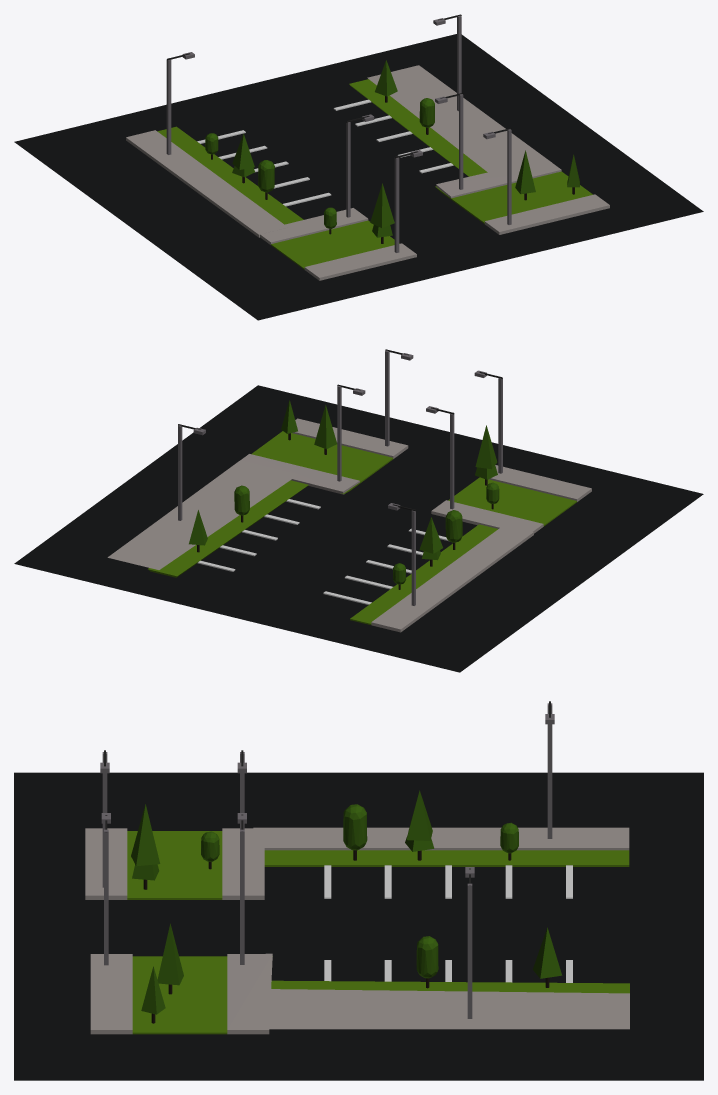
The model's file is parking_lot.obj.
3 renders of one model, top to bottom at view 1: azimuth 30°, elevation 25°; view 2: azimuth 150°, elevation 25°; view 3: azimuth 270°, elevation 25°, orthographic. The views are drawn at different scales.
Visible parts, largest first — view 1: Plane_Plane.008, Cube.905_Cube.3610, Cube.030_Cube.042, Cube.000_Cube.007, Cube.024_Cube.041, Cone.005_Cone.031, Cube.003_Cube.010, Cube.041_Cube.045, Cone.003_Cone.029, Icosphere.164_Icosphere.194; view 2: Plane_Plane.008, Cube.905_Cube.3610, Cube.030_Cube.042, Cube.000_Cube.007, Cube.024_Cube.041, Cone.003_Cone.029, Cone.005_Cone.031, Icosphere.164_Icosphere.194; view 3: Plane_Plane.008, Cube.905_Cube.3610, Cube.030_Cube.042, Cube.000_Cube.007, Cone.005_Cone.031, Icosphere.164_Icosphere.194, Cone.003_Cone.029, Icosphere.163_Icosphere.193, Cube.024_Cube.041, Cone.001_Cone.027, Cube.032_Cube.001, Cone.002_Cone.028 (+4 smaller).
Part boxes in pixels (x1=…): Plane_Plane.008: x1=14, y1=34, x2=703, y2=320; Cube.905_Cube.3610: x1=126, y1=65, x2=609, y2=237; Cube.030_Cube.042: x1=260, y1=208, x2=416, y2=280; Cube.000_Cube.007: x1=197, y1=130, x2=331, y2=206; Cube.024_Cube.041: x1=333, y1=99, x2=453, y2=173; Cone.005_Cone.031: x1=370, y1=183, x2=394, y2=227; Cube.003_Cube.010: x1=166, y1=59, x2=171, y2=154; Cube.041_Cube.045: x1=394, y1=157, x2=399, y2=252; Cone.003_Cone.029: x1=515, y1=150, x2=535, y2=194; Icosphere.164_Icosphere.194: x1=258, y1=160, x2=274, y2=192; Plane_Plane.008: x1=14, y1=385, x2=703, y2=672; Cube.905_Cube.3610: x1=107, y1=418, x2=533, y2=632; Cube.030_Cube.042: x1=431, y1=465, x2=591, y2=533; Cube.000_Cube.007: x1=323, y1=528, x2=449, y2=604; Cube.024_Cube.041: x1=197, y1=499, x2=320, y2=571; Cone.003_Cone.029: x1=314, y1=405, x2=337, y2=449; Cone.005_Cone.031: x1=475, y1=425, x2=497, y2=469; Icosphere.164_Icosphere.194: x1=445, y1=510, x2=462, y2=542; Plane_Plane.008: x1=14, y1=772, x2=703, y2=1080; Cube.905_Cube.3610: x1=90, y1=827, x2=629, y2=1034; Cube.030_Cube.042: x1=85, y1=828, x2=264, y2=899; Cube.000_Cube.007: x1=324, y1=865, x2=572, y2=898; Cone.005_Cone.031: x1=131, y1=804, x2=160, y2=866; Icosphere.164_Icosphere.194: x1=343, y1=804, x2=367, y2=850; Cone.003_Cone.029: x1=157, y1=923, x2=183, y2=985; Icosphere.163_Icosphere.193: x1=416, y1=936, x2=438, y2=978; Cube.024_Cube.041: x1=324, y1=960, x2=572, y2=982; Cone.001_Cone.027: x1=533, y1=927, x2=562, y2=978; Cube.032_Cube.001: x1=467, y1=883, x2=472, y2=1018; Cone.002_Cone.028: x1=406, y1=790, x2=432, y2=840.
Bounding box in the file's own units: 5.23 × 1.13 × 4.96.
